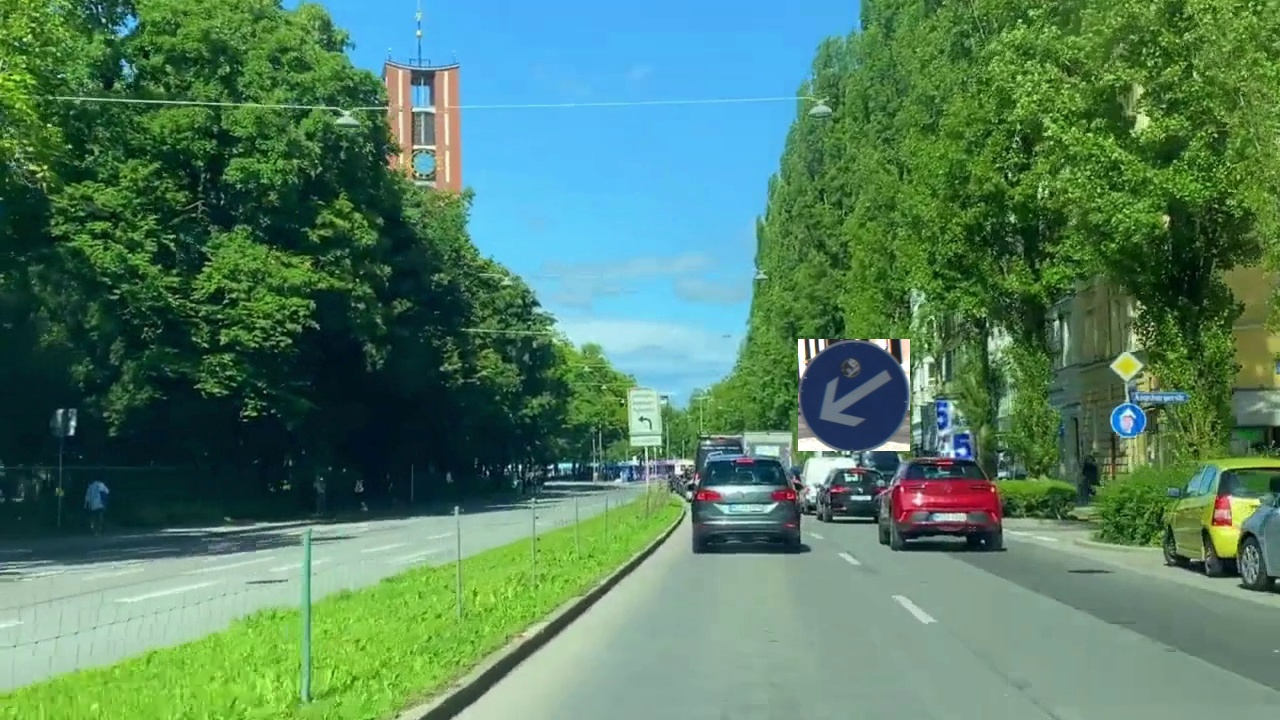Keep left: (798, 339, 910, 451)
